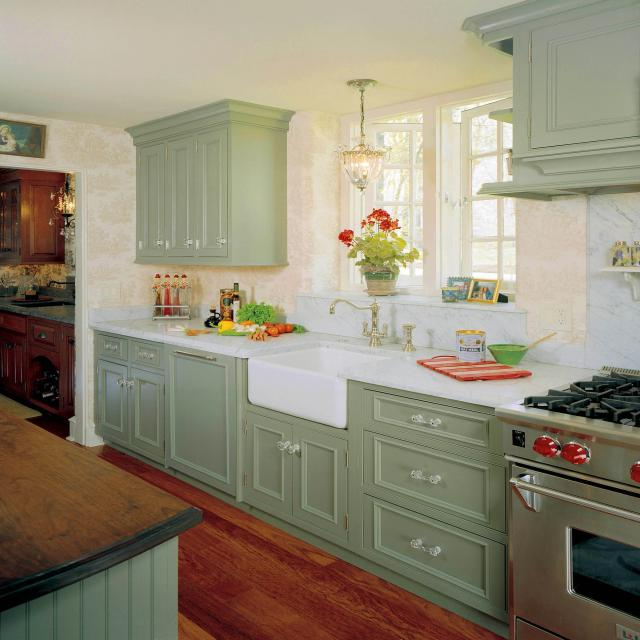Appliance_Oven: (495, 368, 640, 640)
Appliance_Sink: (248, 348, 390, 429), (328, 299, 382, 347), (402, 322, 416, 352)
Cabinet_Shaker: (94, 332, 505, 622), (516, 24, 640, 152), (133, 122, 231, 262)
Countertop_Solid_Surface: (341, 358, 597, 407), (91, 319, 369, 358)
Countertop_Wood: (0, 400, 203, 613)
